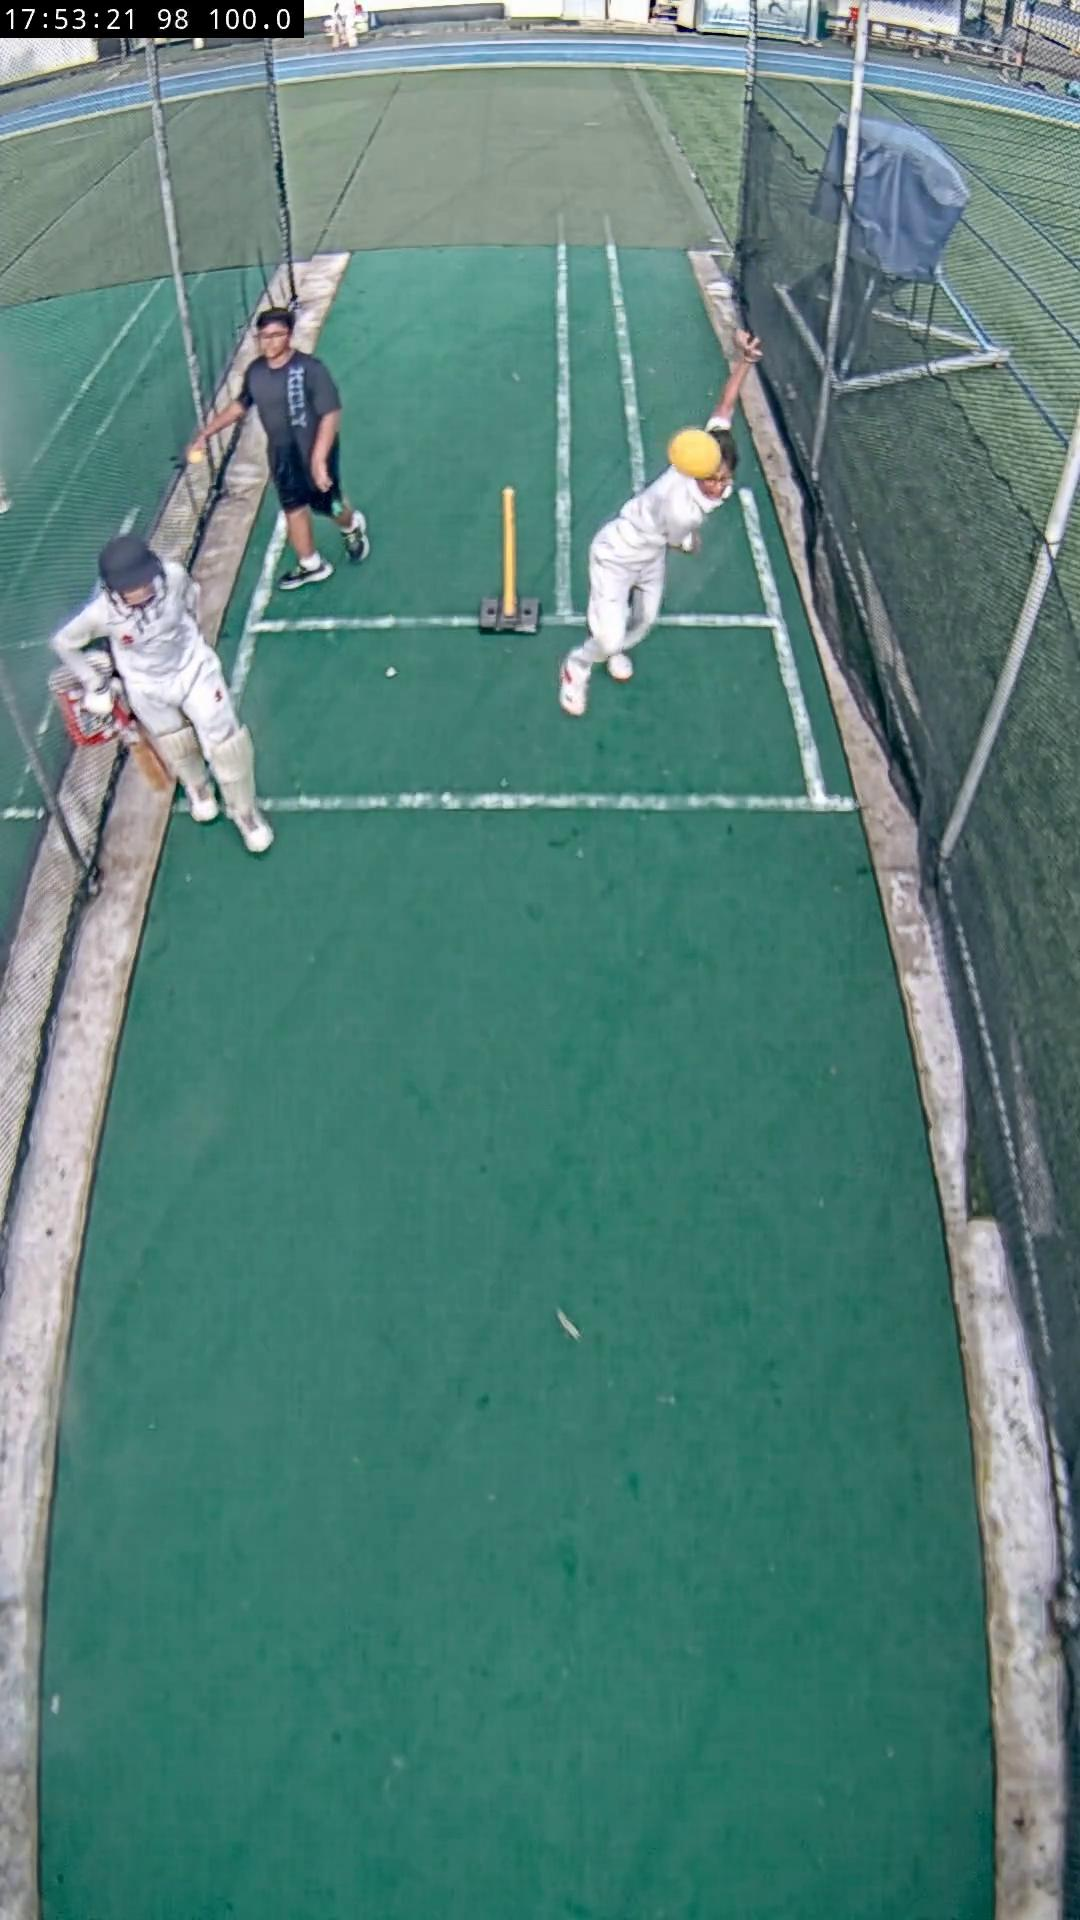ball: (667, 427, 724, 479)
stumps: (480, 488, 541, 634)
